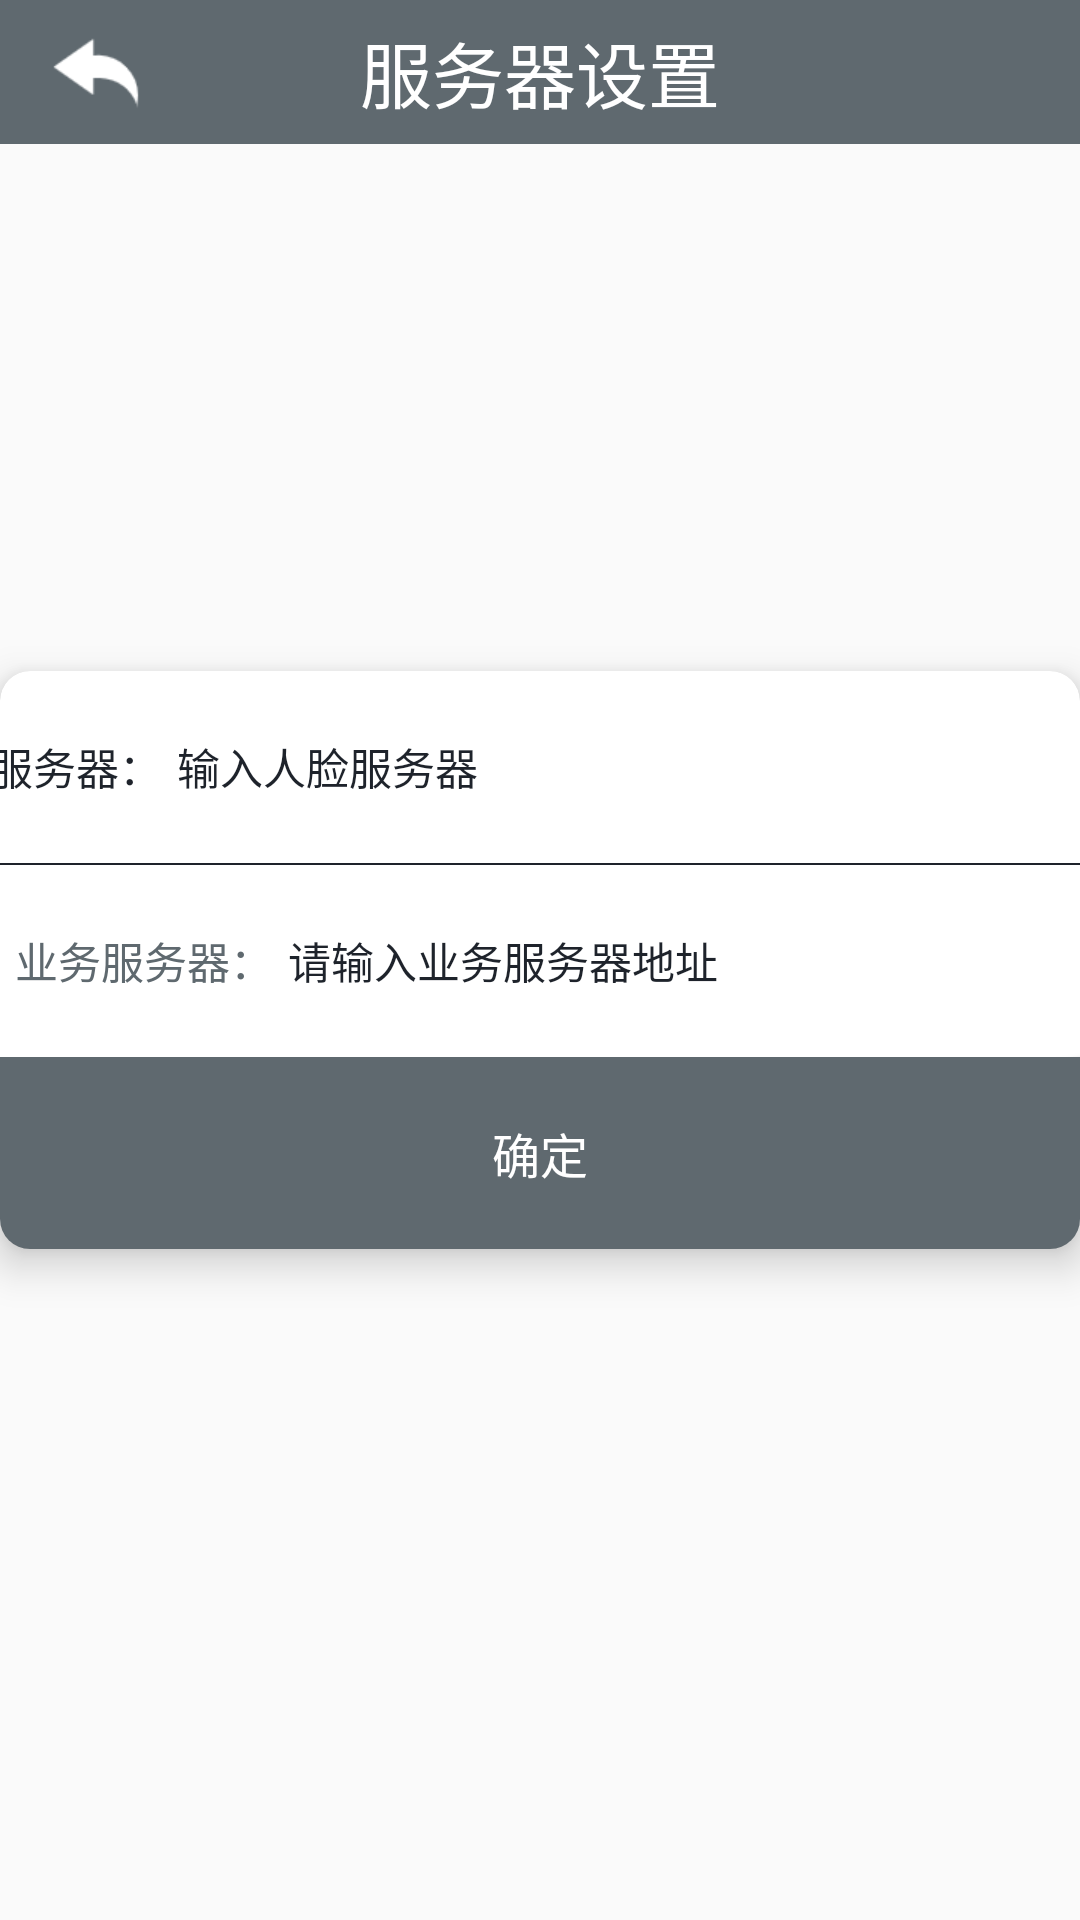

Where icons sit on this 1080px x 1920px app screen, as (x1=x1, y1=y1, x2=x2, y2=y2):
back: (x1=54, y1=39, x2=139, y2=106)
